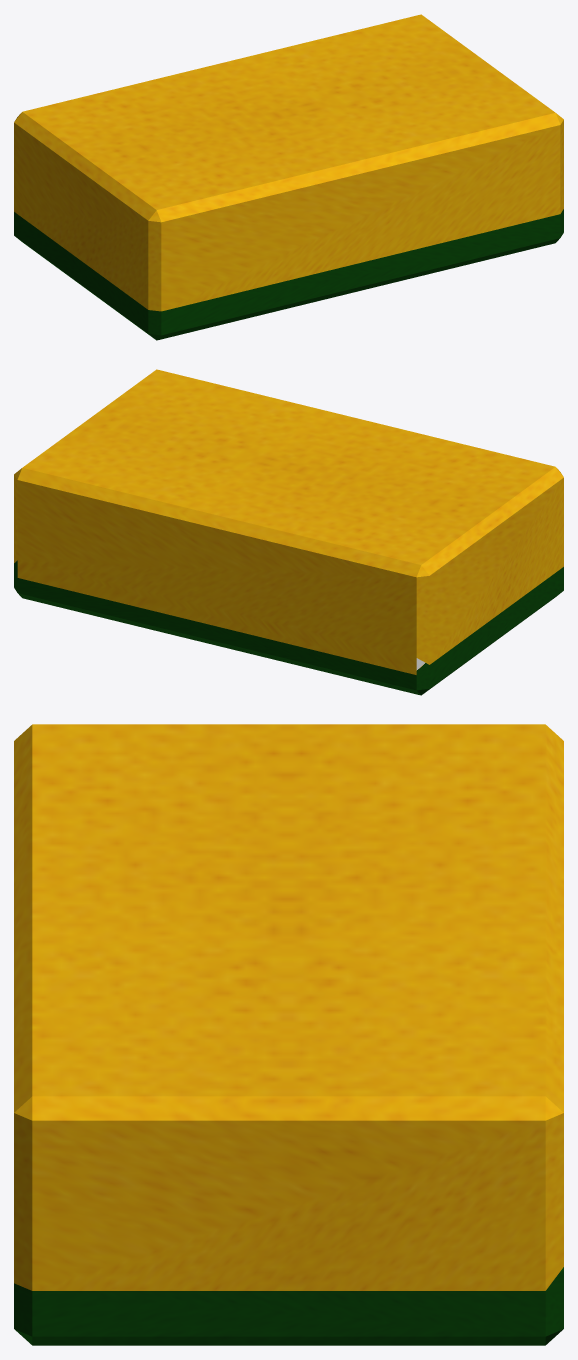
The model's file is Scourer.fbx.
3 views of the same model, one above another, from view 1: azimuth 30°, elevation 25°; view 2: azimuth 150°, elevation 25°; view 3: azimuth 270°, elevation 25° (orthographic). The views are drawn at different scales.
Parts seen in each view (by area): view 1: Scourer; view 2: Scourer; view 3: Scourer.
Part boxes in pixels (bbox=[...]): Scourer: bbox=[14, 14, 563, 340]; Scourer: bbox=[14, 369, 563, 695]; Scourer: bbox=[14, 724, 563, 1345].
Bounding box in the file's own units: 5 × 1.5 × 3.
1 material, 1 textured.
